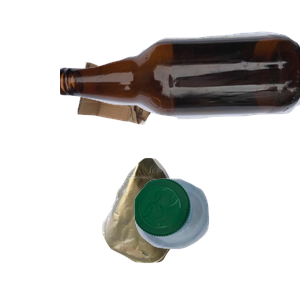cardboard: (75, 59, 237, 176)
glass: (60, 29, 300, 141)
plastic: (132, 176, 300, 300)
trash: (99, 155, 268, 300)
